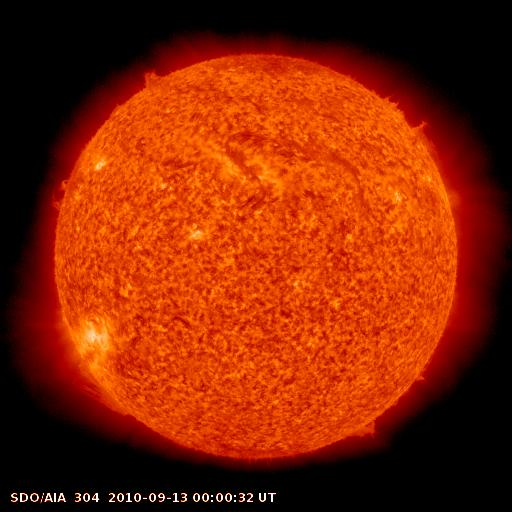prominence: (75, 376, 149, 429), (334, 411, 396, 451), (42, 170, 85, 217), (407, 116, 444, 167), (367, 85, 415, 124), (133, 58, 172, 100)
